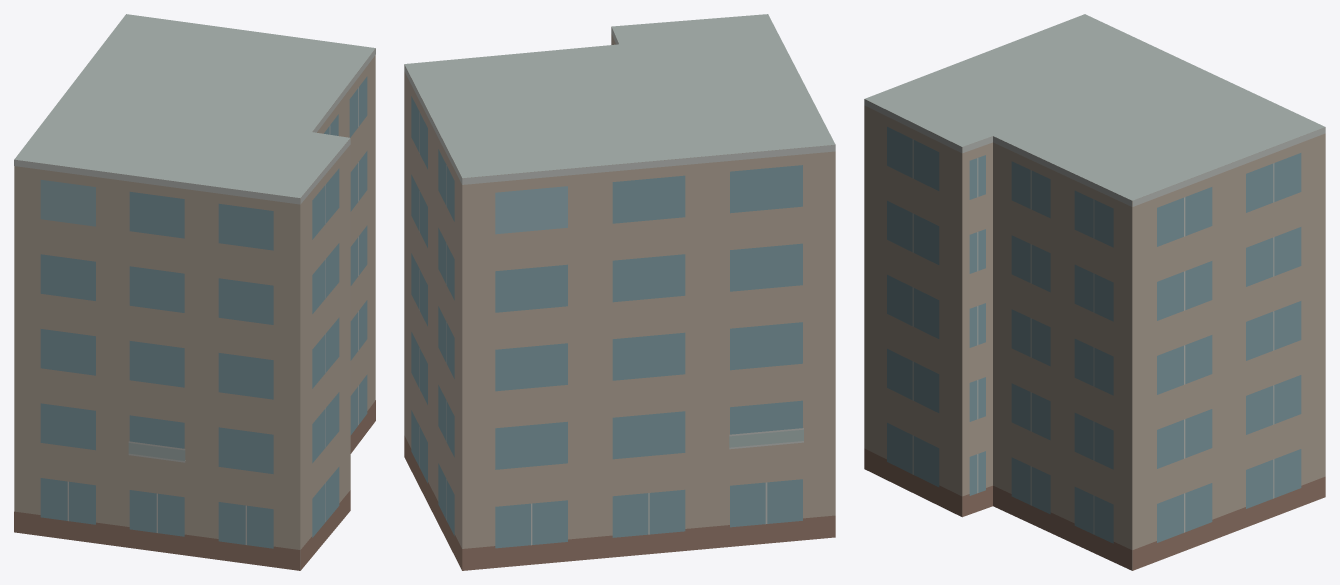
Rendered from survey-upis-32948335.glb.
3 renders of one model, left to right at view 1: azimuth 30°, elevation 25°; view 2: azimuth 150°, elevation 25°; view 3: azimuth 270°, elevation 25°, orthographic. The views are drawn at different scales.
Visible parts, largest first — view 1: survey-upis-32948335.tmp; view 2: survey-upis-32948335.tmp; view 3: survey-upis-32948335.tmp.
Part boxes in pixels (box(x1,y1,x2,y2)): survey-upis-32948335.tmp: box(14, 14, 375, 570); survey-upis-32948335.tmp: box(404, 14, 835, 570); survey-upis-32948335.tmp: box(864, 14, 1325, 570).
Size of the model in its own units: 15.38 by 14.2 by 16.05.
